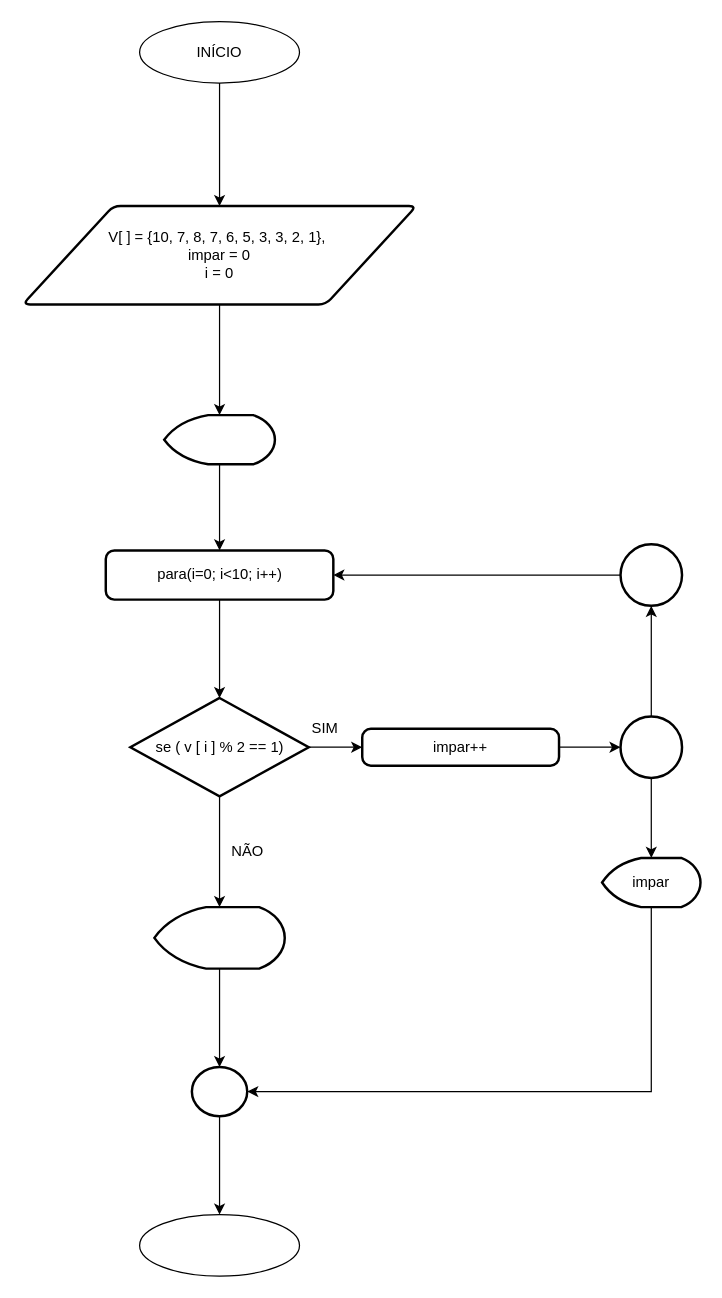
This 722x1298 diagram has some shape labels left out. The centre of each missing label's shape, as x and y in pixels:
FIM: the point at 219,1244
Não há ímpar: the point at 219,937
V [ ]: the point at 219,439
